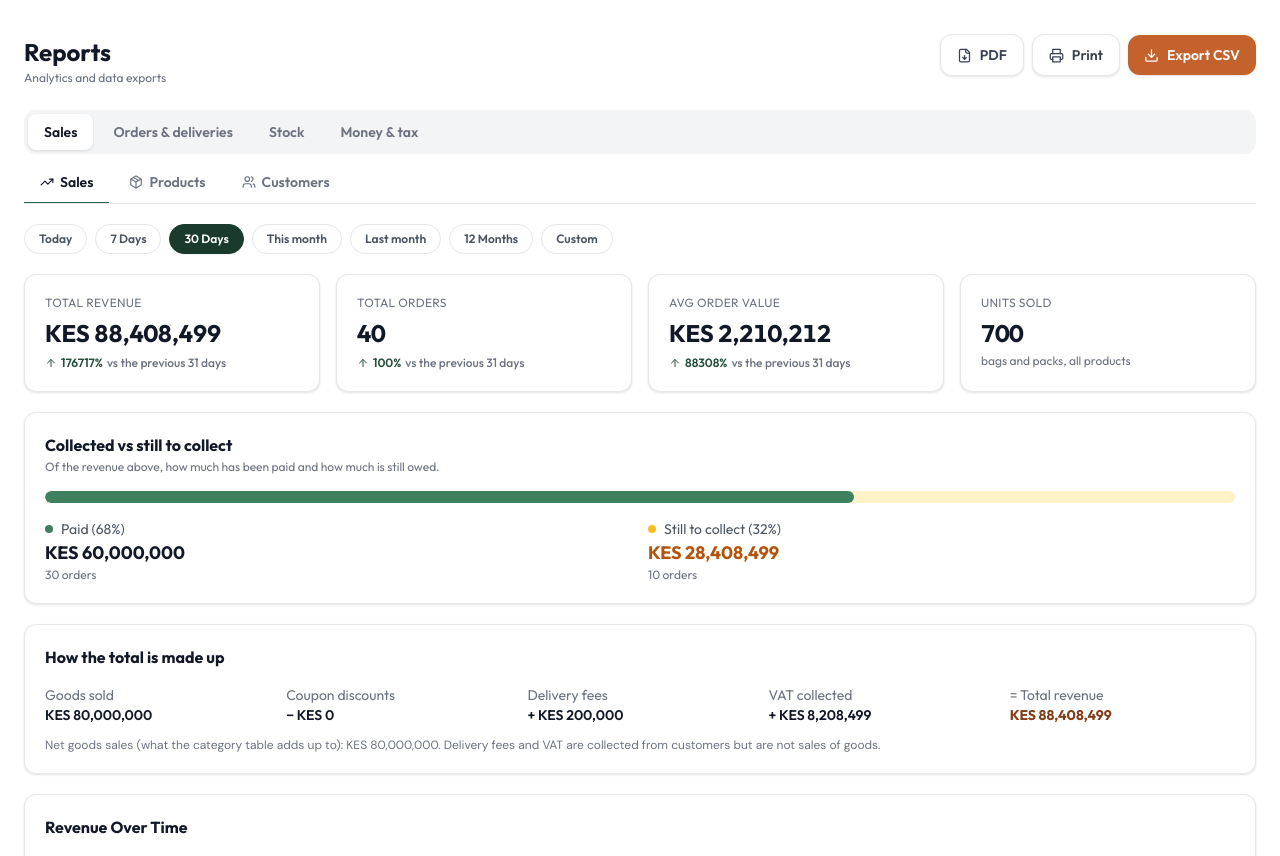
Reports page: navigation › groups the reports by the question they answer, and follows a group to its first report
The width and height of the screenshot is (1280, 856).
Expected: the button "Sales" is shown, 28,114 -> 93,150
Expected: the button "Orders & deliveries" is shown, 97,114 -> 249,150
Click the button "Stock" at (287, 132), box 253,114 -> 320,150
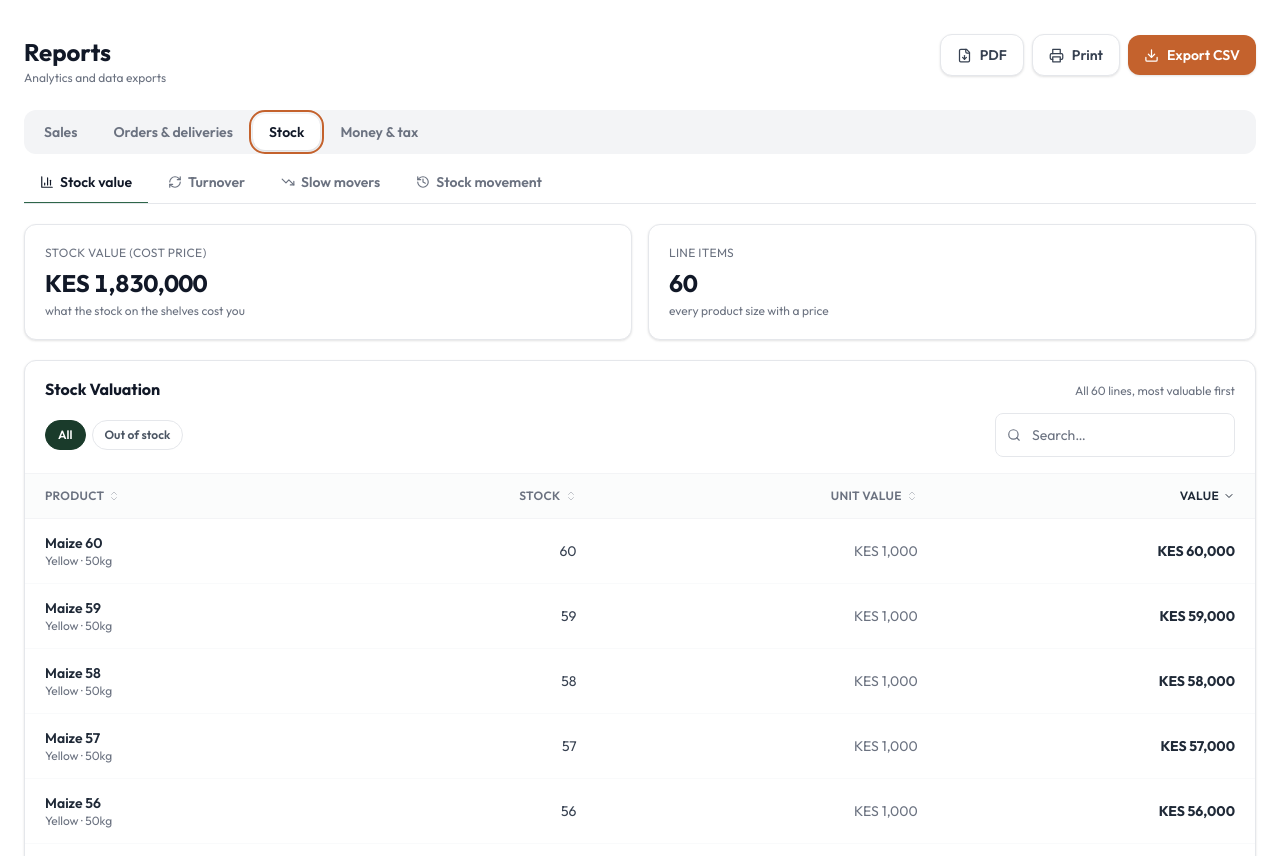
Now the heading "Stock Valuation" is shown, box 45,377 -> 160,401
Now the tabs read "Stock value", "Turnover", "Slow movers", "Stock movement", in this order, box 24,162 -> 148,204; 152,162 -> 261,204; 265,162 -> 396,204; 400,162 -> 558,204
